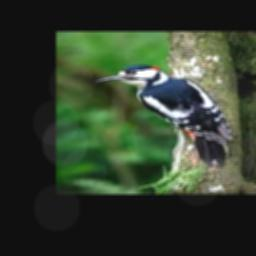Woodpecker: (95, 64, 233, 168)
